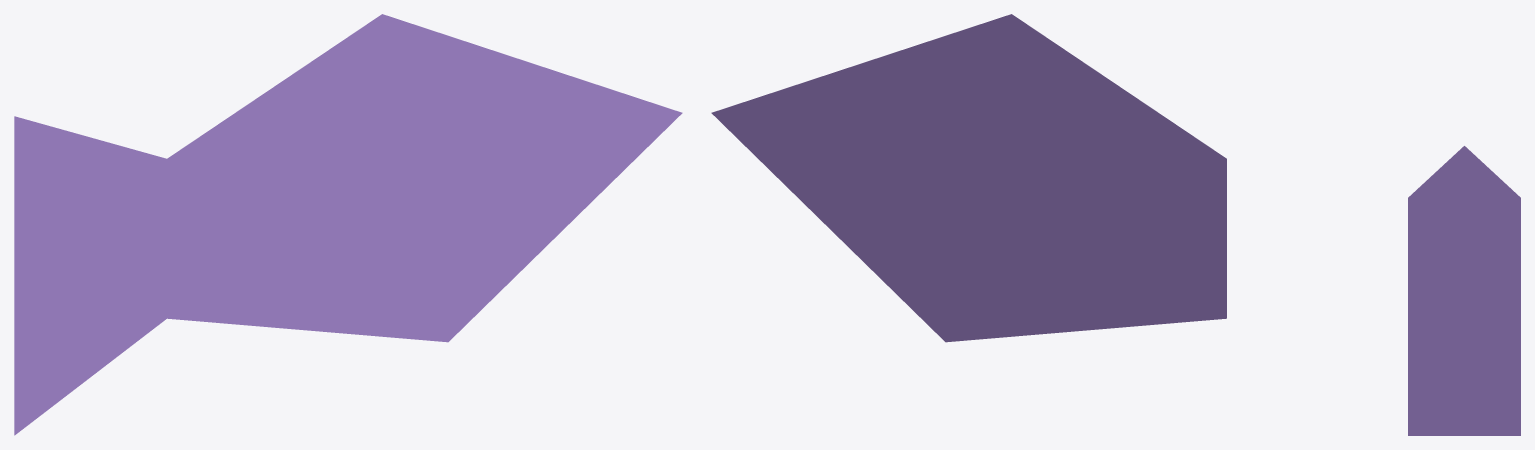
File: fish-violet.glb
The picture shows the model from 3 angles, left to right: view 1: azimuth 30°, elevation 25°; view 2: azimuth 150°, elevation 25°; view 3: azimuth 270°, elevation 25°; orthographic projection. The views are drawn at different scales.
Visible parts, largest first — view 1: FishViolet; view 2: FishViolet; view 3: FishViolet.
Part boxes in pixels (left/top/right/bottom): FishViolet: left=14, top=14, right=682, bottom=435; FishViolet: left=711, top=14, right=1226, bottom=342; FishViolet: left=1408, top=146, right=1520, bottom=435.
Size of the model in its own units: 1.75 by 0.8 by 0.3.
